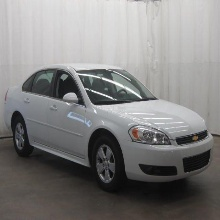no damage: (4, 64, 216, 192)
